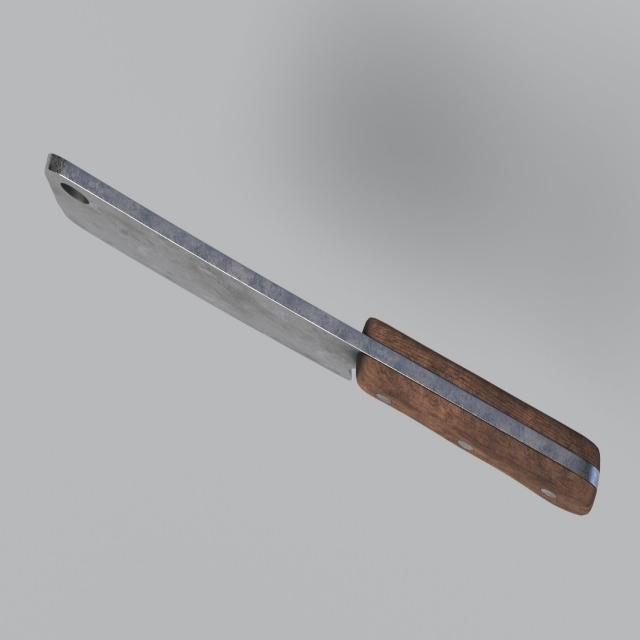cleaver: (44, 146, 605, 524)
